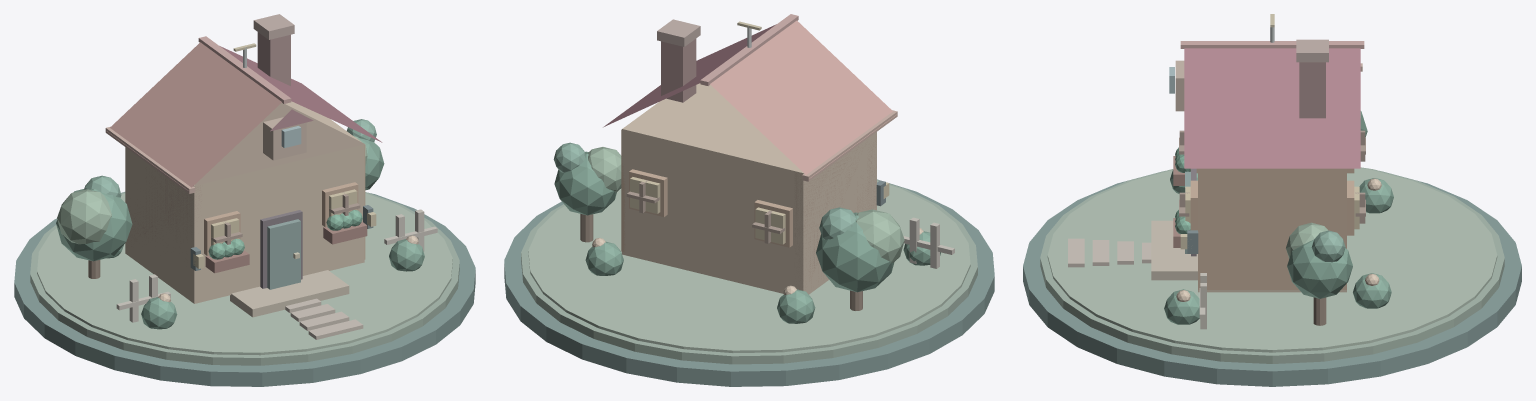
File: weather_cottage.glb
The picture shows the model from 3 angles, left to right: view 1: azimuth 30°, elevation 25°; view 2: azimuth 150°, elevation 25°; view 3: azimuth 270°, elevation 25°; orthographic projection. The views are drawn at different scales.
Visible parts, largest first — view 1: world; view 2: world; view 3: world.
Boxes of the visible parts, left/top/right/bottom form: world: left=14, top=14, right=475, bottom=386; world: left=504, top=14, right=994, bottom=386; world: left=1023, top=14, right=1521, bottom=386.
Bounding box in the file's own units: 8.7 × 5.04 × 8.7.
